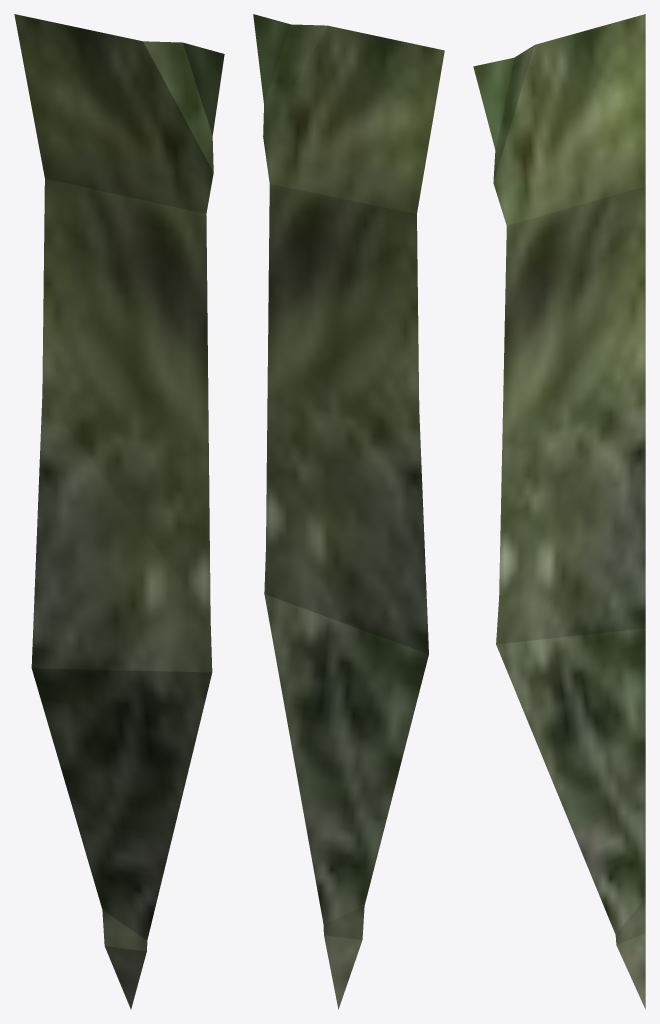
The picture shows the model from 3 angles, left to right: view 1: azimuth 30°, elevation 25°; view 2: azimuth 210°, elevation 25°; view 3: azimuth 270°, elevation 25°; orthographic projection. The views are drawn at different scales.
Size of the model in its own units: 0.3127 by 2.62 by 0.4343.
Materials: 1 (1 with a texture image).
